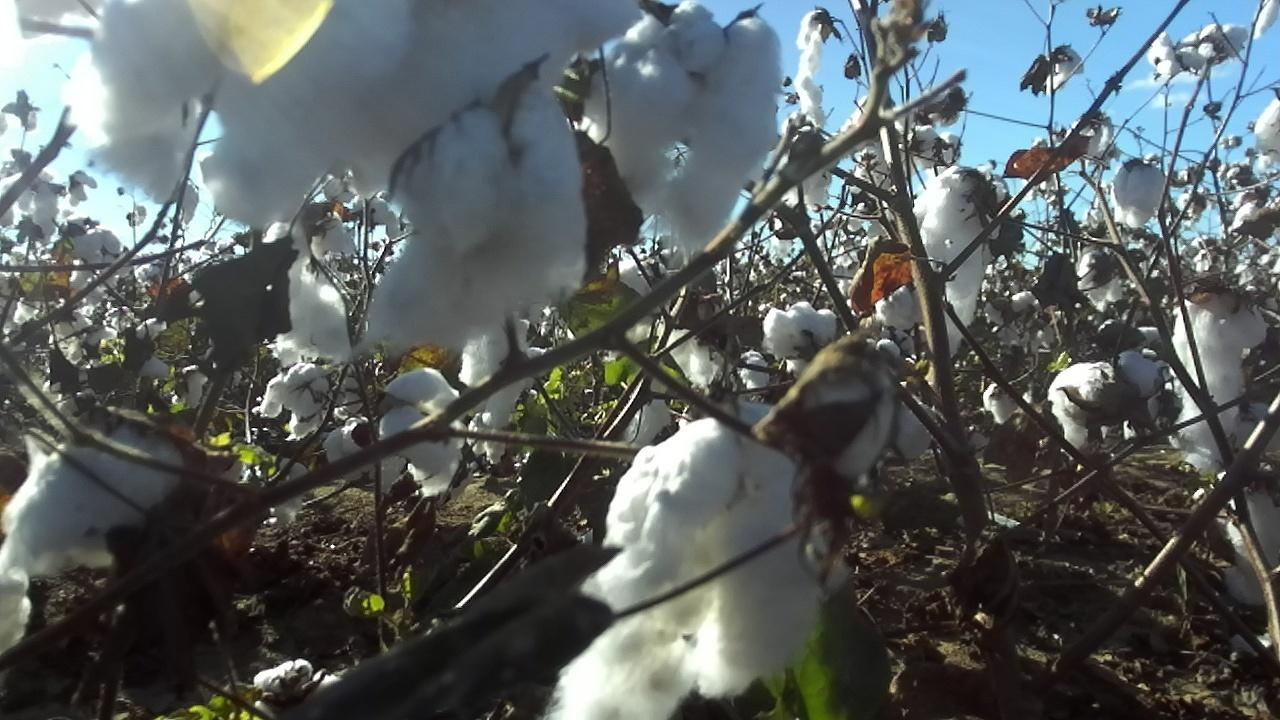cotton_ready: (67, 0, 650, 223), (555, 417, 822, 720), (369, 84, 589, 350), (589, 4, 779, 247), (0, 427, 184, 571), (1172, 299, 1269, 481), (619, 322, 737, 447), (260, 217, 357, 363), (821, 382, 932, 486), (924, 164, 984, 353), (457, 312, 532, 463), (1052, 355, 1162, 447), (388, 370, 465, 495), (567, 257, 662, 345), (1218, 482, 1280, 610), (761, 299, 840, 379), (257, 360, 335, 439), (325, 417, 405, 487), (253, 662, 340, 720), (778, 125, 837, 206), (733, 350, 785, 429), (1109, 160, 1167, 229), (0, 565, 35, 658), (1073, 252, 1125, 310), (874, 282, 920, 337), (1253, 97, 1280, 157)
